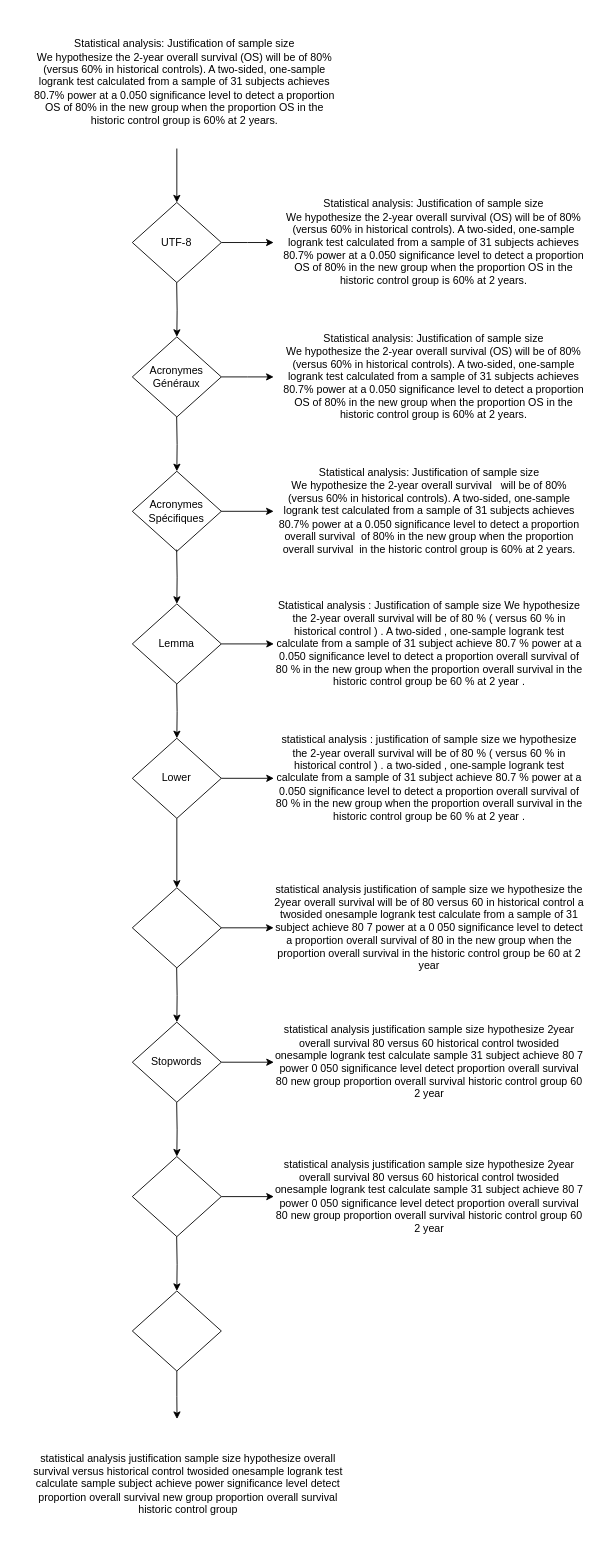
Image size: 609x1561. Some labels were removed from this diagram. Each missing label, with the box of its shape:
Cas Particuliers: (131, 1156, 221, 1237)
Nettoyage spéciaux: (131, 1290, 221, 1371)
Ponctuation: (131, 887, 221, 968)
